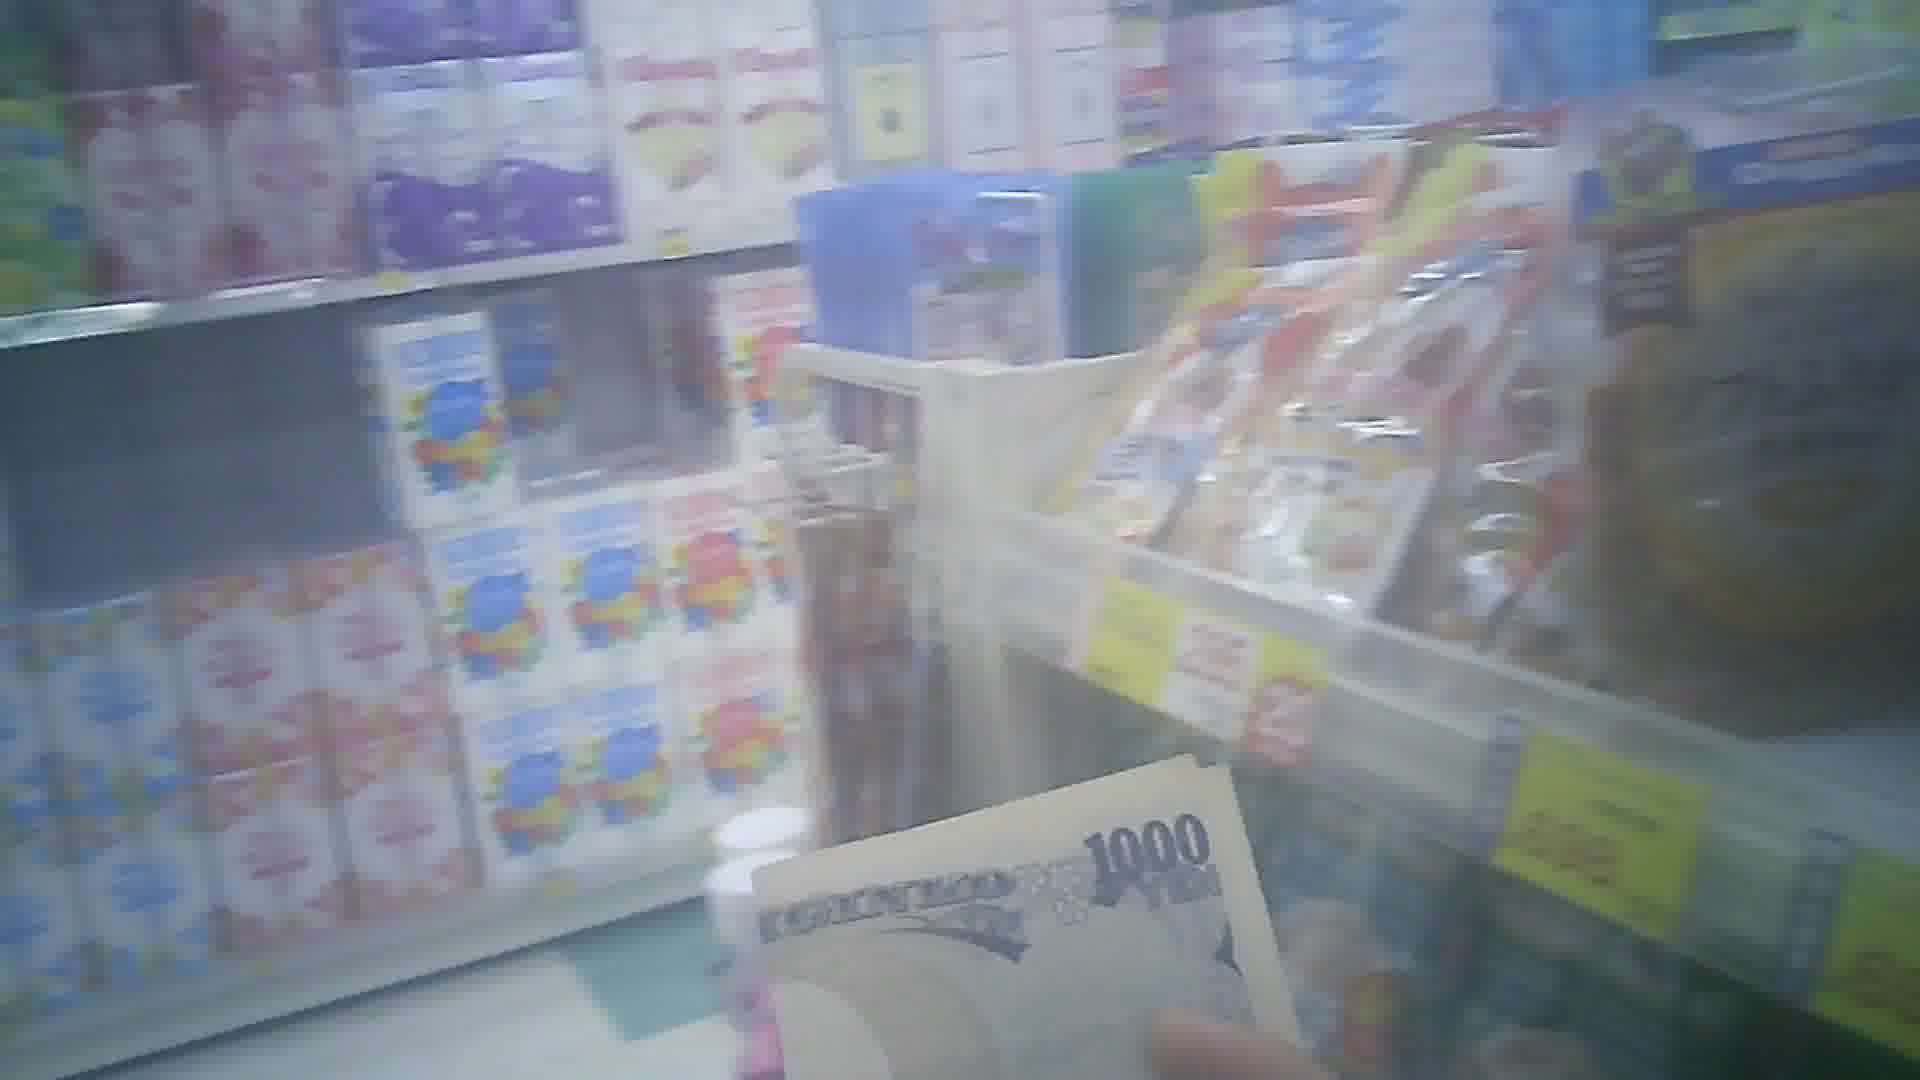1,000 Yen: (752, 769, 1280, 1079)
